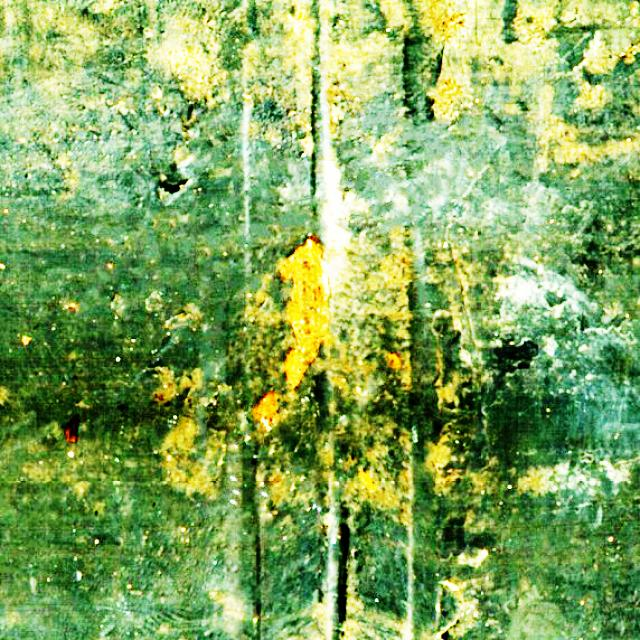Corrosion: (278, 235, 333, 389), (251, 393, 278, 431), (62, 414, 79, 441), (361, 472, 376, 491), (386, 352, 401, 368)
